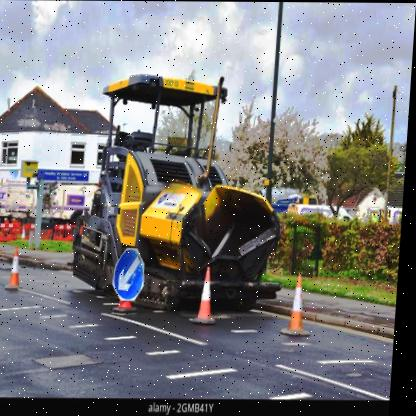Keep left: (113, 240, 155, 306)
